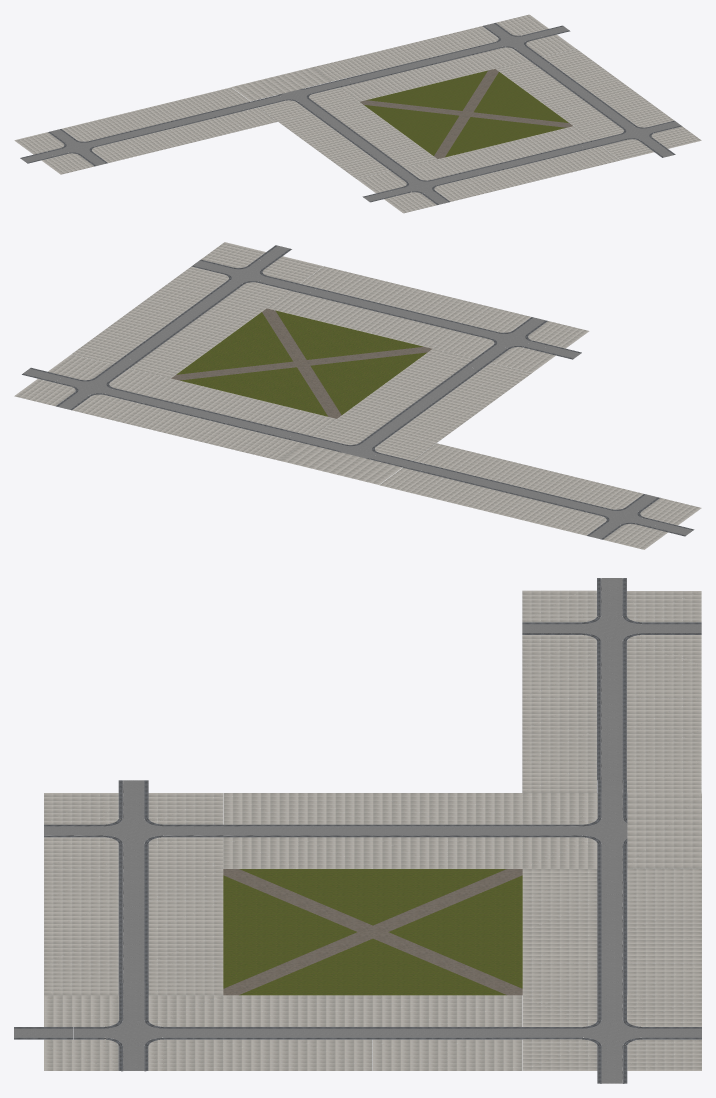
File: Plaza.glb
3 renders of one model, top to bottom at view 1: azimuth 30°, elevation 25°; view 2: azimuth 150°, elevation 25°; view 3: azimuth 270°, elevation 25°, orthographic. The views are drawn at different scales.
Parts seen in each view (by area): view 1: Calle, Plane; view 2: Calle, Plane; view 3: Calle, Plane.
Boxes of the visible parts, left/top/right/bottom form: Calle: left=14, top=14, right=701, bottom=213; Plane: left=360, top=69, right=572, bottom=158; Calle: left=14, top=242, right=701, bottom=549; Plane: left=171, top=308, right=432, bottom=418; Calle: left=14, top=578, right=701, bottom=1083; Plane: left=223, top=869, right=522, bottom=995.
Size of the model in its own units: 80.01 by 0.0343 by 46.
12 materials, 12 textured.
